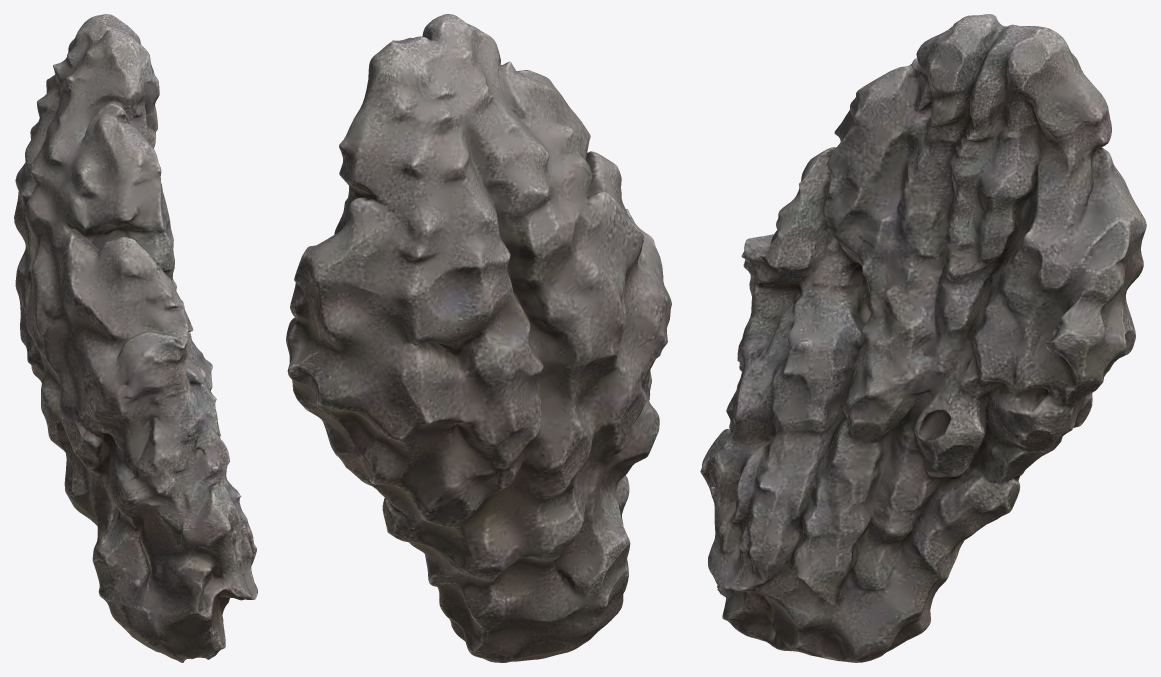
The model's file is JiaShanShi_12.glb.
The picture shows the model from 3 angles, left to right: view 1: azimuth 30°, elevation 25°; view 2: azimuth 150°, elevation 25°; view 3: azimuth 270°, elevation 25°; orthographic projection. The views are drawn at different scales.
Parts seen in each view (by area): view 1: tripo_node_ae99912b-c2b3-491c-b398-c096e944a0a2; view 2: tripo_node_ae99912b-c2b3-491c-b398-c096e944a0a2; view 3: tripo_node_ae99912b-c2b3-491c-b398-c096e944a0a2.
Boxes of the visible parts, <box> form: tripo_node_ae99912b-c2b3-491c-b398-c096e944a0a2: <box>14,14,257,662</box>; tripo_node_ae99912b-c2b3-491c-b398-c096e944a0a2: <box>286,14,671,662</box>; tripo_node_ae99912b-c2b3-491c-b398-c096e944a0a2: <box>700,14,1146,662</box>.
Bounding box in the file's own units: 0.3645 × 0.98 × 0.6193.
1 material, 1 textured.
